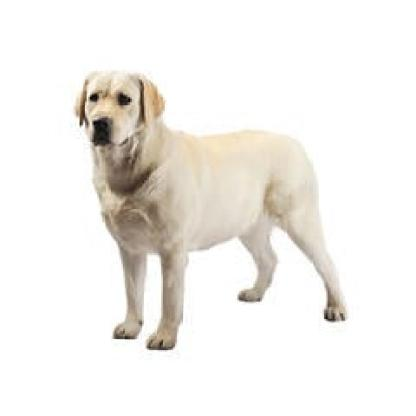Labarador Retriever: (64, 67, 352, 348)
